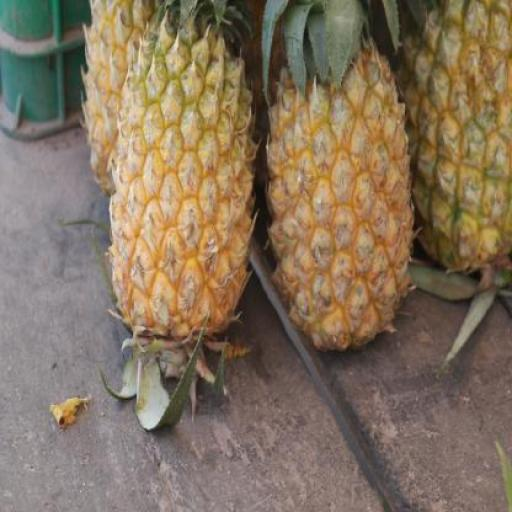------------------------------: (402, 0, 511, 267)
Pineapple - v8 v1: (112, 22, 258, 346), (266, 39, 416, 341), (85, 0, 182, 203)
